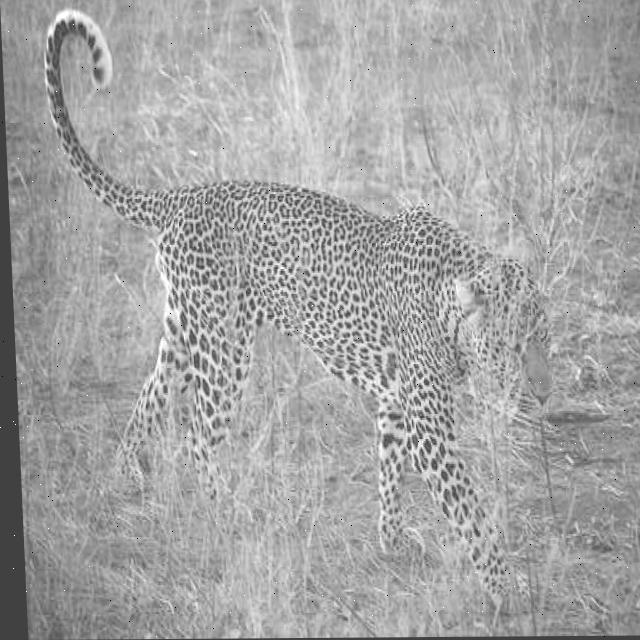Leopard: (40, 4, 566, 632)
